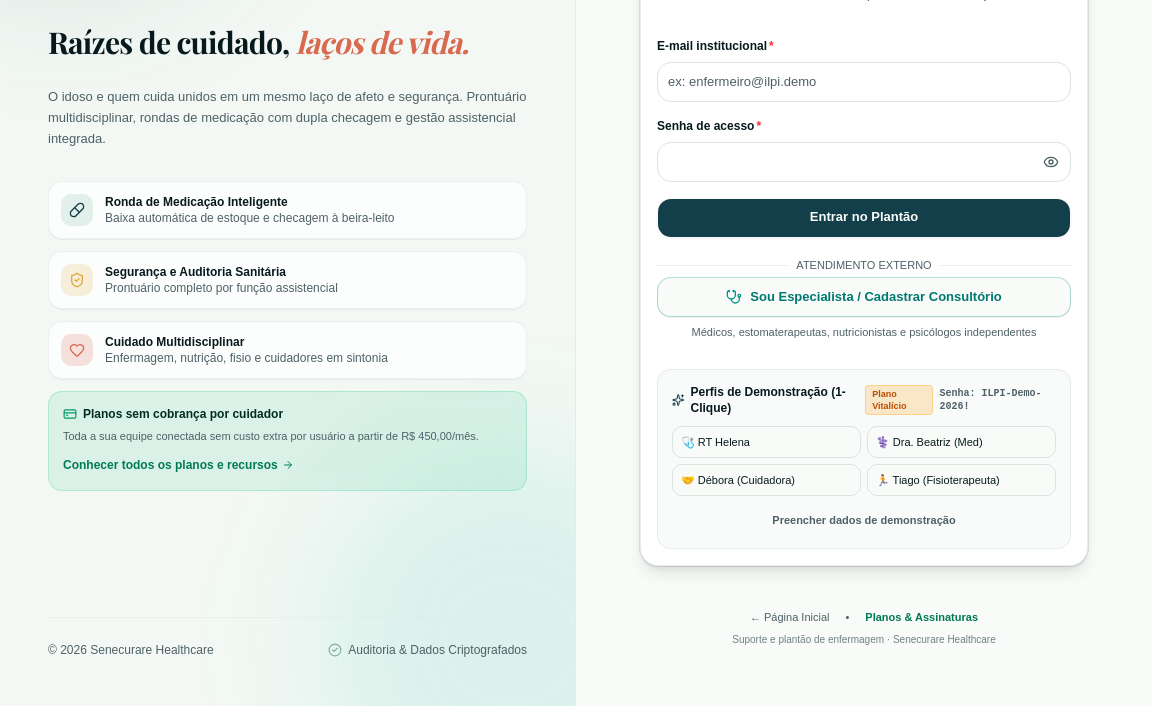
Login Page › preenche automaticamente a conta de demonstração ao clicar no botão rápido
This screenshot has width=1152, height=706.
(page scrolled)
Click the button "Preencher dados de demonstração" at (864, 520), box [672,506,1056,534]
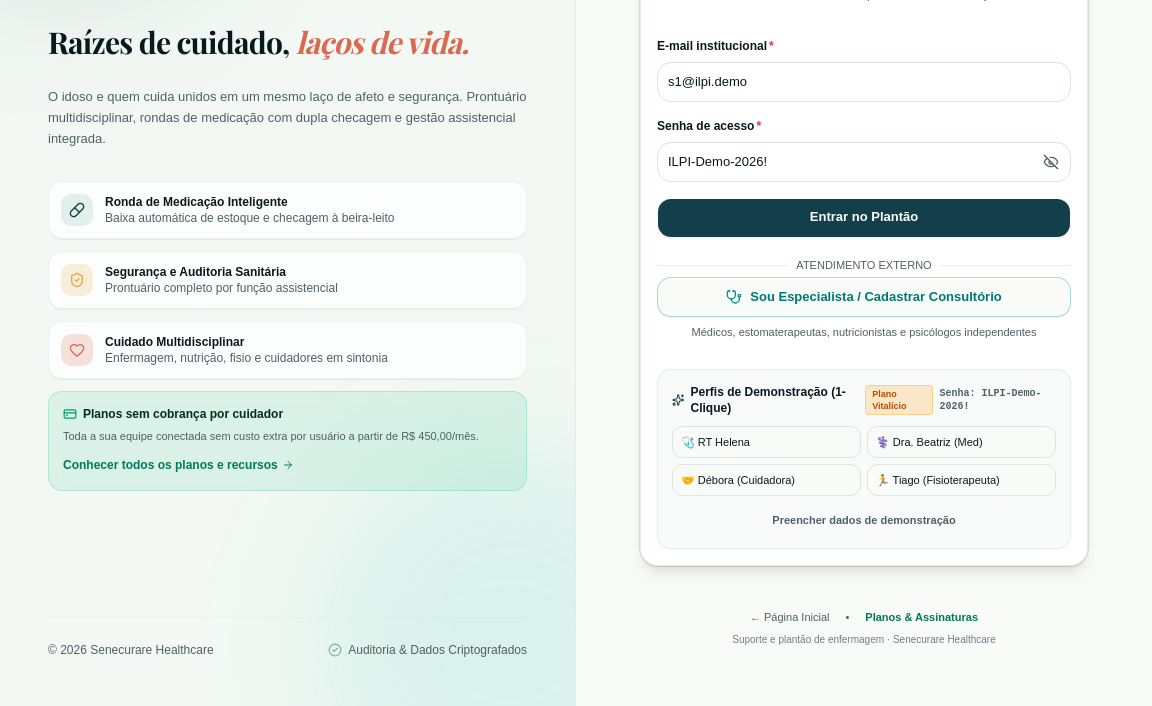
Expected: the field labelled "E-mail institucional *" holds "s1@ilpi.demo", [657,62,1071,102]
Expected: the field labelled "Senha de acesso *" holds "ILPI-Demo-2026!", [657,142,1071,182]
